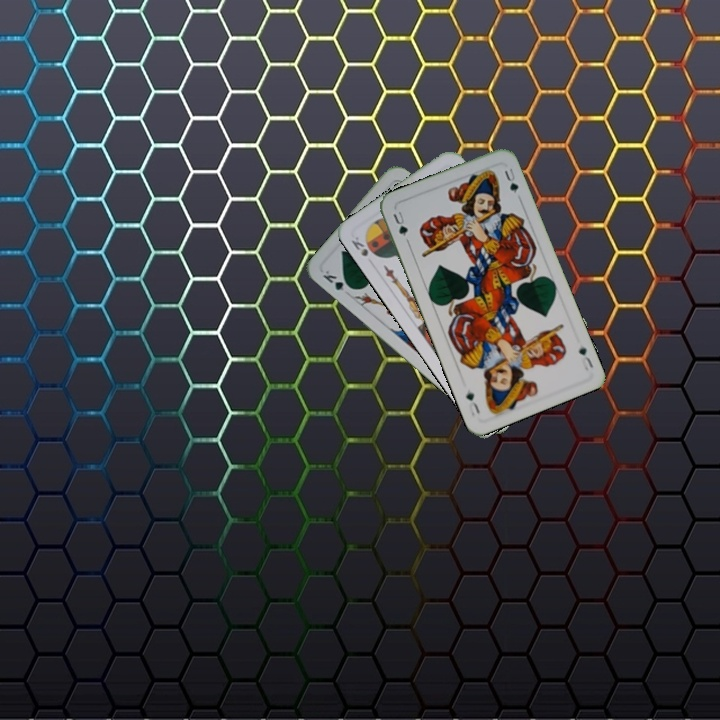GK: (318, 266, 356, 294)
GU: (389, 207, 410, 239), (575, 342, 596, 373)
SK: (347, 232, 371, 259)
